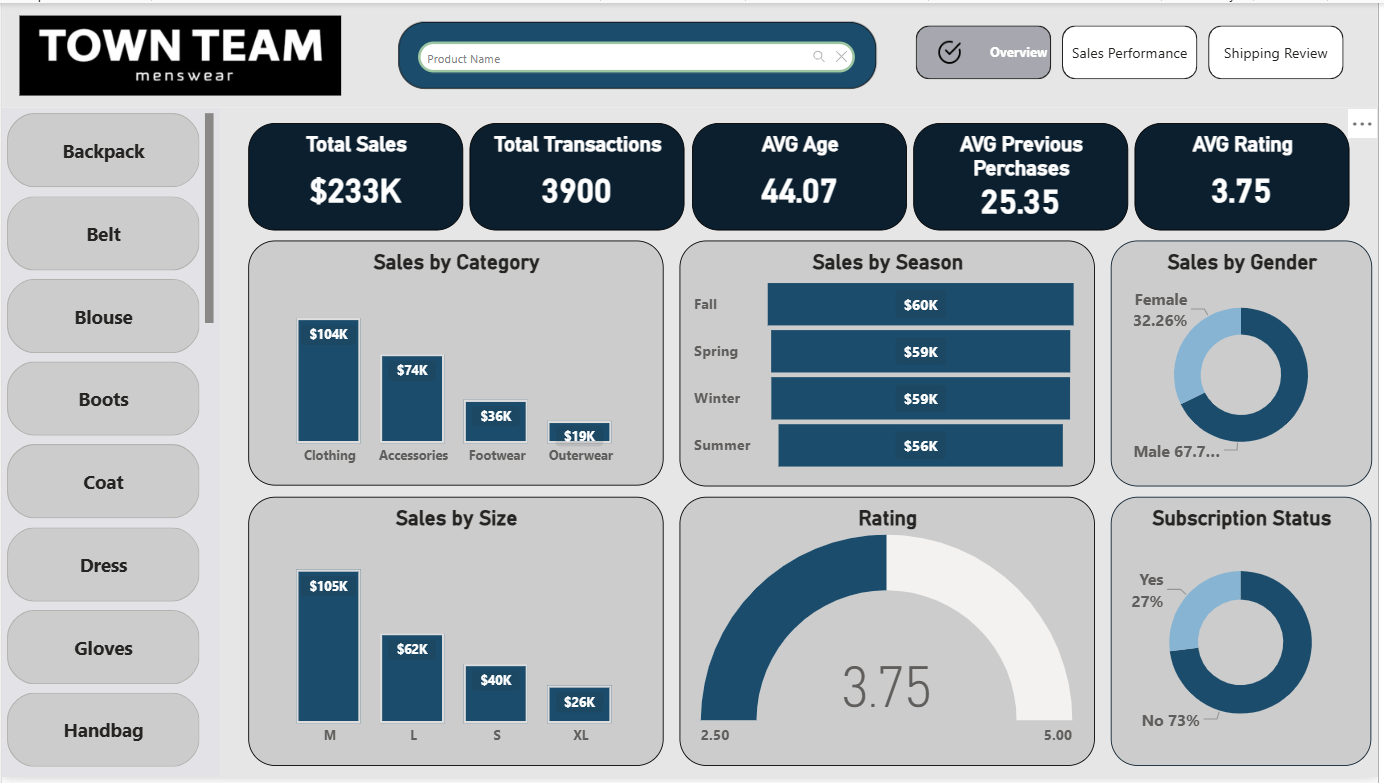

What the dashboard file says about the page in this screenshot:
{"tool":"powerbi","page":{"name":"Overview","canvas":[1280,720],"ordinal":0},"visuals":[{"type":"shape","box":[0,0,1280.2,97.7],"z":0},{"type":"advancedSlicerVisual","fields":{"Values":["shopping_behavior_updated (1).Item Purchased"]},"box":[0,97.7,202.3,622.1],"z":1000},{"type":"pageNavigator","box":[850,20.9,400,50],"z":2000},{"type":"columnChart","title":"Sales by Category","fields":{"Y":["shopping_behavior_updated (1).# Total Sales"],"Category":["shopping_behavior_updated (1).Category"]},"box":[229.1,220.9,386,227.9],"z":3000},{"type":"donutChart","title":"Sales by Gender","fields":{"Y":["shopping_behavior_updated (1).# Total Sales"],"Category":["shopping_behavior_updated (1).Gender"]},"box":[1031.4,220.9,243,229.1],"z":4000},{"type":"funnel","title":"Sales by Season","fields":{"Y":["shopping_behavior_updated (1).# Total Sales"],"Category":["shopping_behavior_updated (1).Season"]},"box":[630.2,220.9,386,229.1],"z":5000},{"type":"card","title":"Total Sales","fields":{"Values":["shopping_behavior_updated (1).# Total Sales"]},"box":[229.3,111.4,200,100],"z":6000},{"type":"card","title":"Total Transactions","fields":{"Values":["shopping_behavior_updated (1).# Customers"]},"box":[435.4,111.6,200,100],"z":7000},{"type":"card","title":"AVG Rating","fields":{"Values":["shopping_behavior_updated (1).# AVG Rating"]},"box":[1053.7,111.4,200,100],"z":8000},{"type":"card","title":"AVG Age","fields":{"Values":["shopping_behavior_updated (1).# AVG Age"]},"box":[641.5,111.4,200,100],"z":9000},{"type":"card","title":"AVG Previous Perchases","fields":{"Values":["shopping_behavior_updated (1).# AVG Previous Perchases"]},"box":[847.6,111.4,200,100],"z":10000},{"type":"donutChart","title":"Subscription Status","fields":{"Y":["shopping_behavior_updated (1).# Customers"],"Category":["shopping_behavior_updated (1).Subscription Status"]},"box":[1031.8,458.9,242.3,250.1],"z":11000},{"type":"columnChart","title":"Sales by Size","fields":{"Y":["shopping_behavior_updated (1).# Total Sales"],"Category":["shopping_behavior_updated (1).Size"]},"box":[229.1,459.3,386,250],"z":12000},{"type":"gauge","title":"Rating","fields":{"Y":["Avg(shopping_behavior_updated (1).Review Rating)"],"MinValue":["Min(shopping_behavior_updated (1).Review Rating)"],"MaxValue":["Max(shopping_behavior_updated (1).Review Rating)1"]},"box":[630.2,459.3,386,250],"z":13000},{"type":"image","box":[868.7,30.1,25.7,31.3],"z":14000},{"type":"textSearchSlicerF85E2E78BE4A4D7D9F99ED75B5D71C85","fields":{"fields":["shopping_behavior_updated (1).Item Purchased"]},"box":[368.5,17.9,444.4,62.5],"z":15000},{"type":"image","box":[16.7,8.9,299.3,79.3],"z":16000}]}

Visuals, with their boxes in screenshot pixels (x1, y1, x2, y2), scaled from the page's 1280x720 canvas onto the 1384x783 screenshot:
shape: (0,0,1383,106)
advancedSlicerVisual - shopping_behavior_updated (1).Item Purchased: (0,106,219,782)
pageNavigator: (919,23,1352,77)
"Sales by Category" columnChart: (248,240,665,488)
"Sales by Gender" donutChart: (1115,240,1378,489)
"Sales by Season" funnel: (681,240,1099,489)
"Total Sales" card: (248,121,464,230)
"Total Transactions" card: (471,121,687,230)
"AVG Rating" card: (1139,121,1356,230)
"AVG Age" card: (694,121,910,230)
"AVG Previous Perchases" card: (916,121,1133,230)
"Subscription Status" donutChart: (1116,499,1378,771)
"Sales by Size" columnChart: (248,499,665,771)
"Rating" gauge: (681,499,1099,771)
image: (939,33,967,67)
textSearchSlicerF85E2E78BE4A4D7D9F99ED75B5D71C85 - shopping_behavior_updated (1).Item Purchased: (398,19,879,87)
image: (18,10,342,96)
